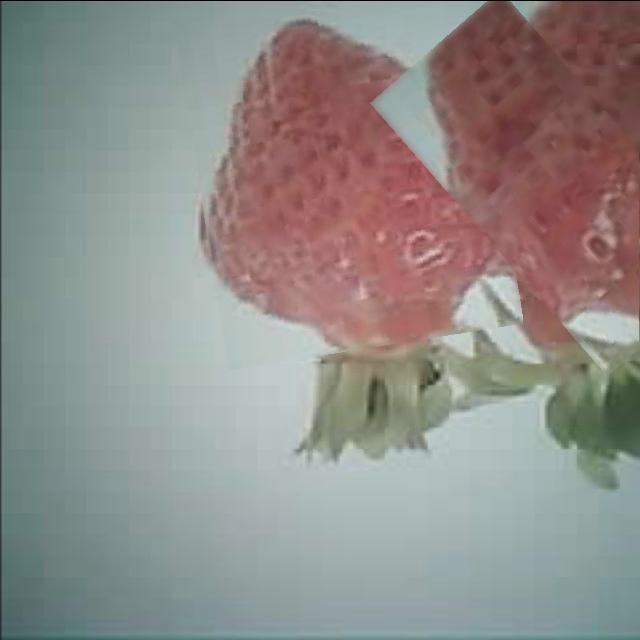strawberry: (187, 0, 511, 359), (418, 0, 640, 369)
